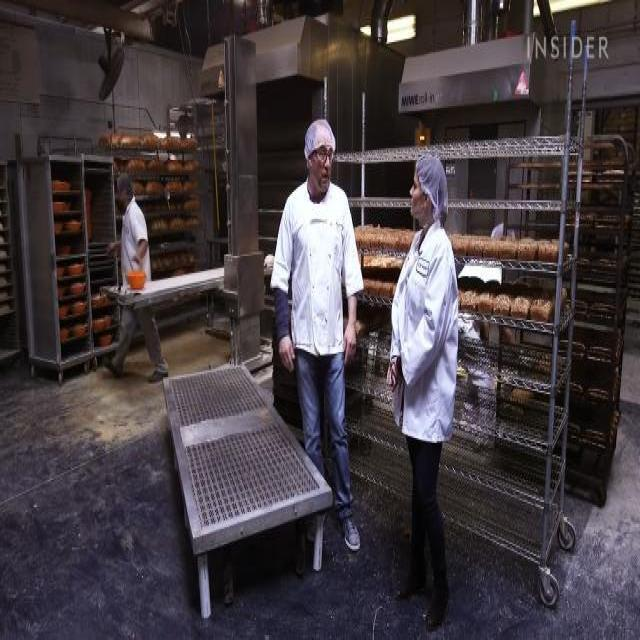bare_hand: (386, 350, 413, 406), (343, 315, 365, 365), (277, 327, 300, 371), (128, 248, 148, 271), (104, 234, 120, 261)
